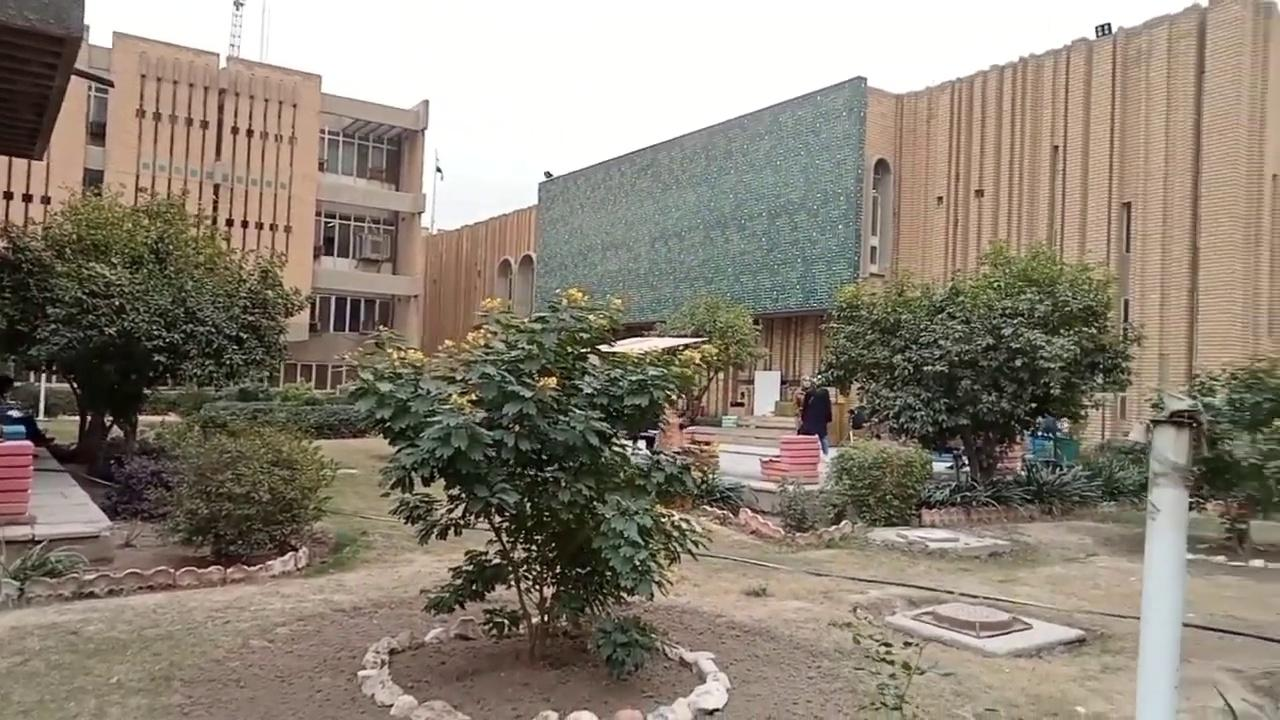person: (0, 373, 55, 447), (799, 375, 833, 458), (793, 375, 812, 434), (1036, 408, 1060, 437)
tree: (334, 284, 746, 674), (0, 179, 310, 473), (810, 235, 1145, 490), (158, 411, 338, 564), (1183, 353, 1279, 552), (659, 290, 768, 424), (819, 436, 934, 527)
